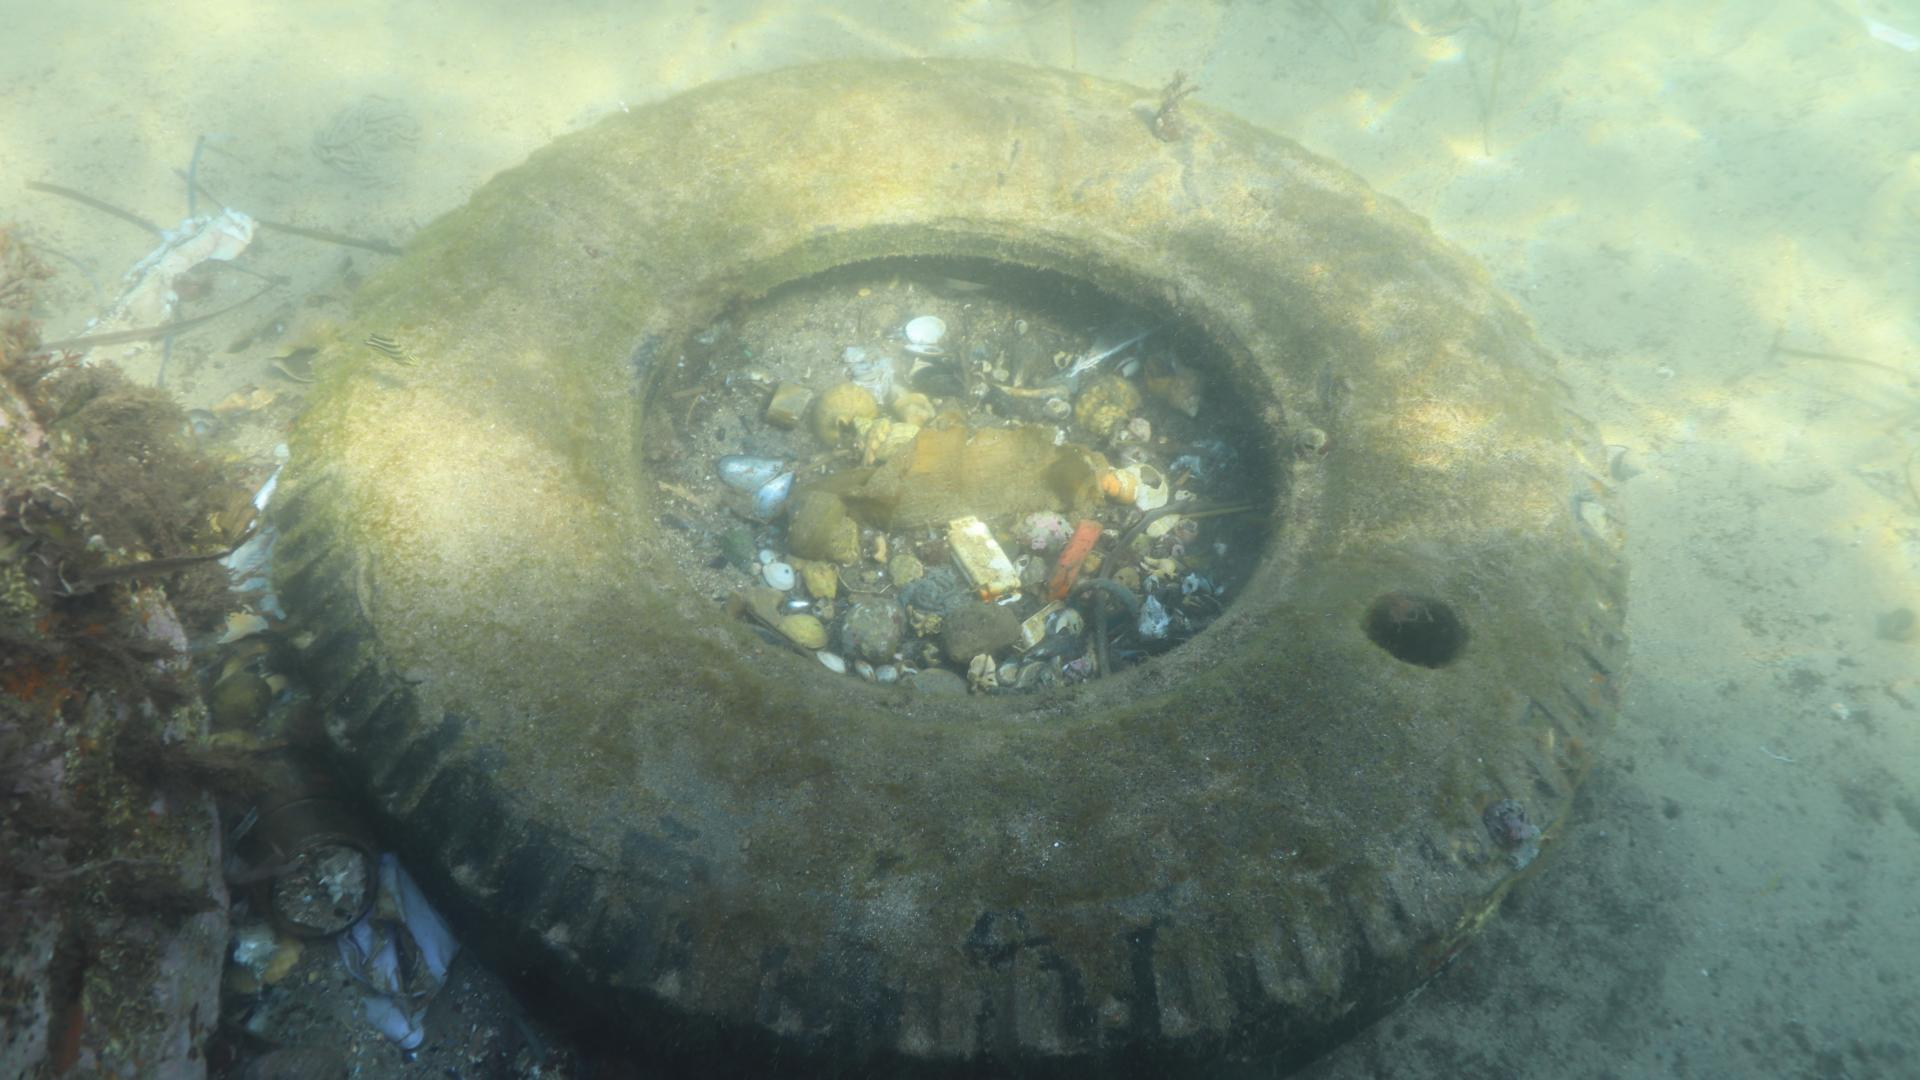tire: (272, 51, 1629, 1080)
